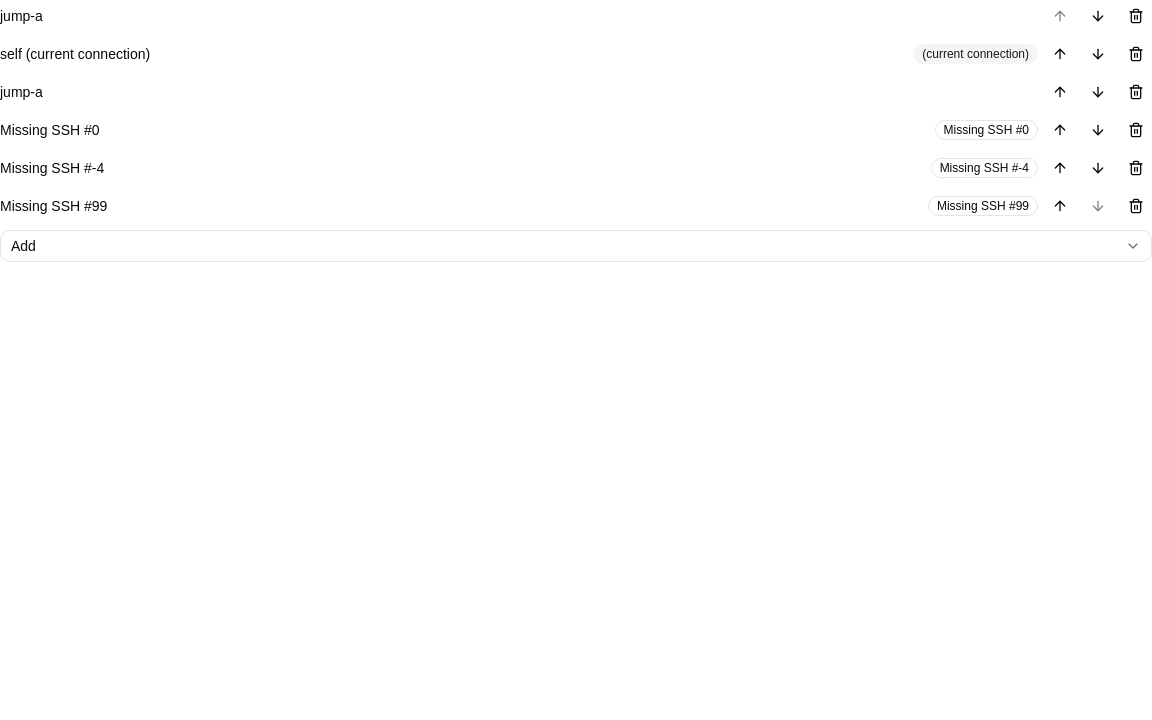
Scenario: JumpRouteField › excludes self and already-selected profiles from Add options
Click the dropdown named "Add SSH profile to jump route" at point(23, 246), box x1=0 y1=230 x2=1151 y2=262
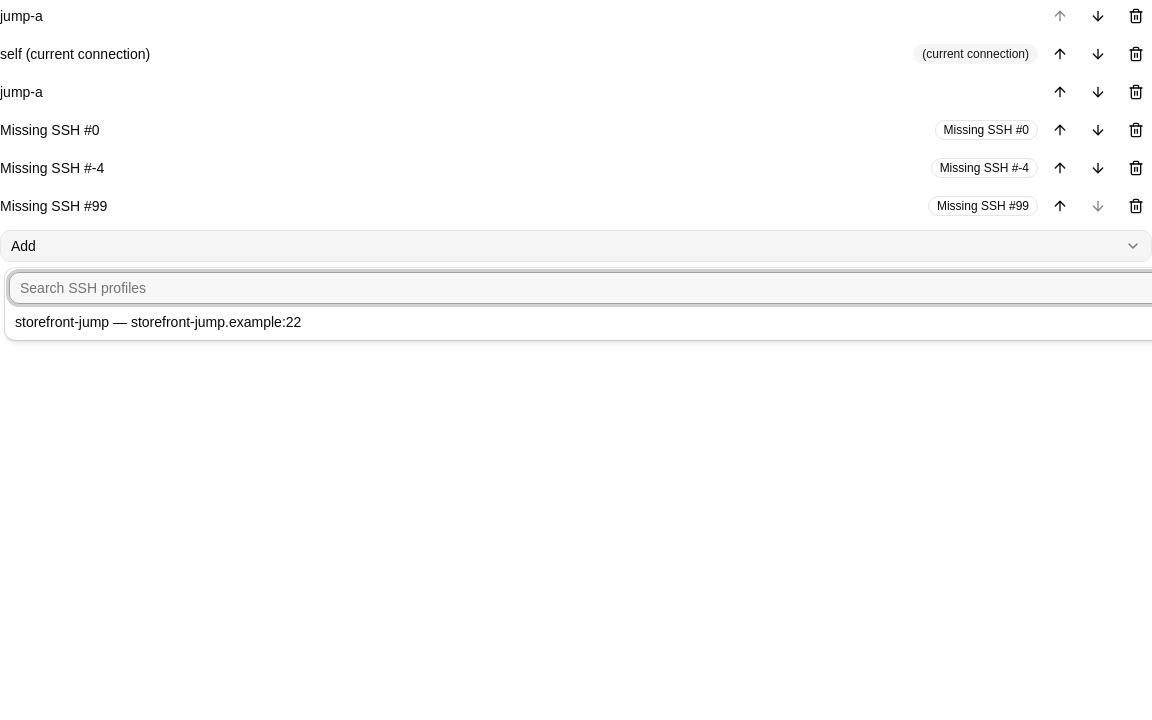
Expected: the option "storefront-jump — storefront-jump.example:22" is shown, x1=15 y1=314 x2=301 y2=330
